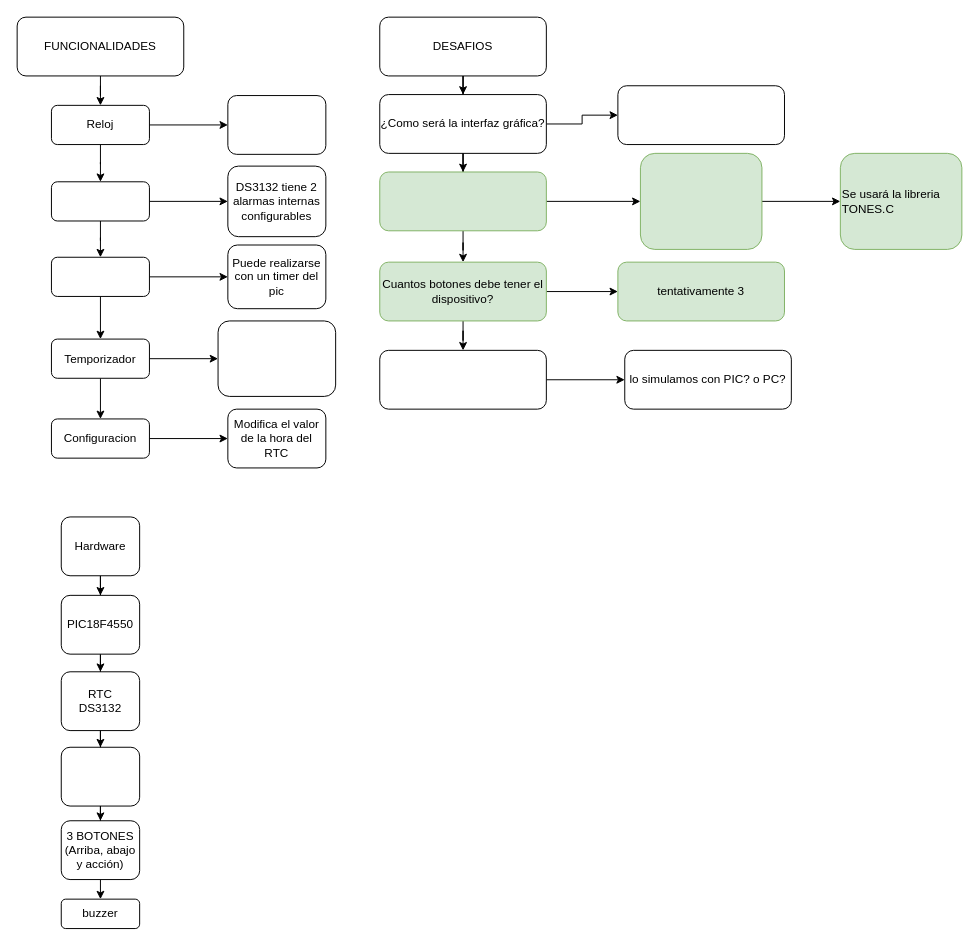
The diagram is 979 pixels wide and 946 high, and some of its shapes have lost their labels. Here are the shapes that lost their labels. From the top down, the box of each, then its label:
(227, 95, 326, 154): DS3132 mantiene el registro del tiempo actual
(617, 85, 784, 145): Diseño de bitmaps
(50, 181, 149, 221): Alarma
(379, 171, 546, 231): Manejo de las melodias
(639, 152, 762, 249): sonidos para: temporizador cronómetro alarma
(50, 256, 149, 296): Cronómetro
(217, 320, 336, 396): se configura una hora y se compara con la hora actual DS3132
(379, 349, 546, 409): Comunicacion USART con pc
(60, 746, 140, 806): GLCD
